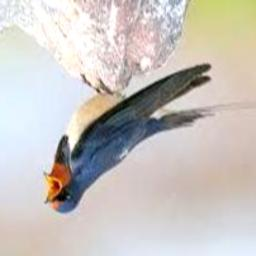Swallow: (43, 64, 214, 212)
